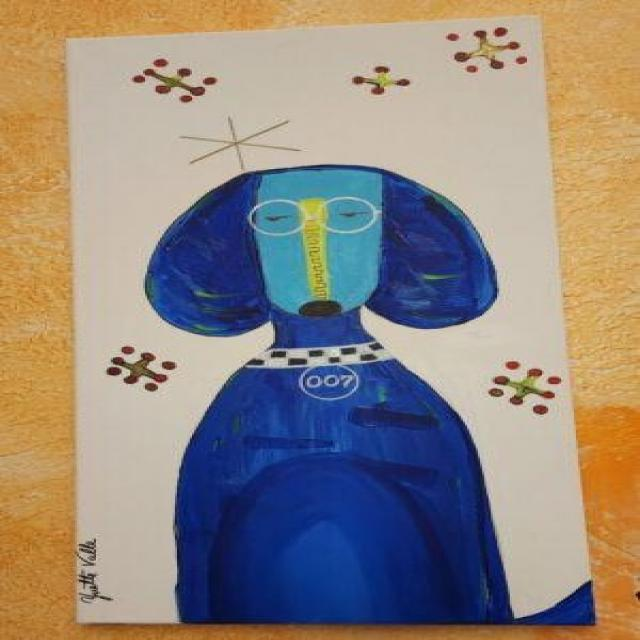painting: (63, 12, 598, 624)
